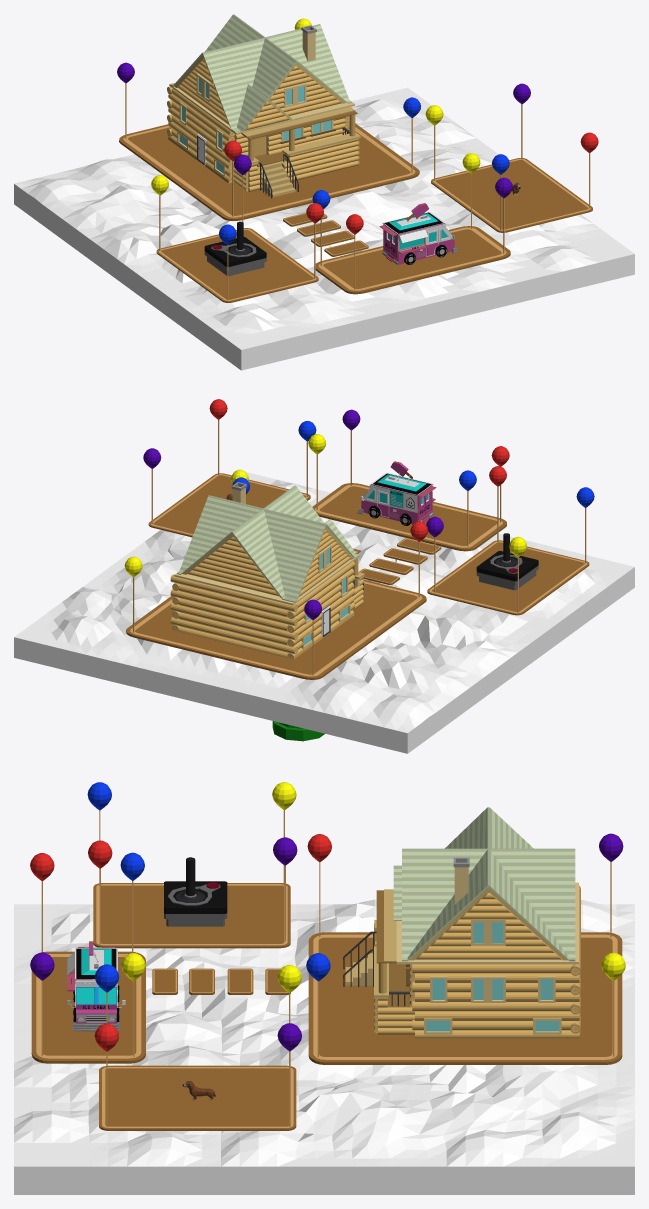
3 views of the same model, one above another, from view 1: azimuth 30°, elevation 25°; view 2: azimuth 150°, elevation 25°; view 3: azimuth 270°, elevation 25° (orthographic). The views are drawn at different scales.
Visible parts, largest first — view 1: Cube.013, Cube.1516, VEHICLES_ICE_CREAM_TRUCK, OBJRANDOM_JOYSTICK; view 2: Cube.013, Cube.1516, VEHICLES_ICE_CREAM_TRUCK, OBJRANDOM_JOYSTICK, UNDERGROUND_PIPES; view 3: Cube.013, Cube.1516, VEHICLES_ICE_CREAM_TRUCK, OBJRANDOM_JOYSTICK.
Boxes of the visible parts, x1,y1,x2,y2 form: Cube.013: (14,18,634,370); Cube.1516: (167,14,360,198); VEHICLES_ICE_CREAM_TRUCK: (379,203,458,264); OBJRANDOM_JOYSTICK: (204,221,266,276); Cube.013: (14,399,634,753); Cube.1516: (170,482,364,659); VEHICLES_ICE_CREAM_TRUCK: (357,461,436,525); OBJRANDOM_JOYSTICK: (476,533,538,590); UNDERGROUND_PIPES: (272,721,324,741); Cube.013: (14,782,634,1194); Cube.1516: (343,807,580,1038); VEHICLES_ICE_CREAM_TRUCK: (67,941,125,1031); OBJRANDOM_JOYSTICK: (164,857,227,926).
Bounding box in the file's own units: 4000 × 2271 × 4000.
Materials: 47 (2 with a texture image).
